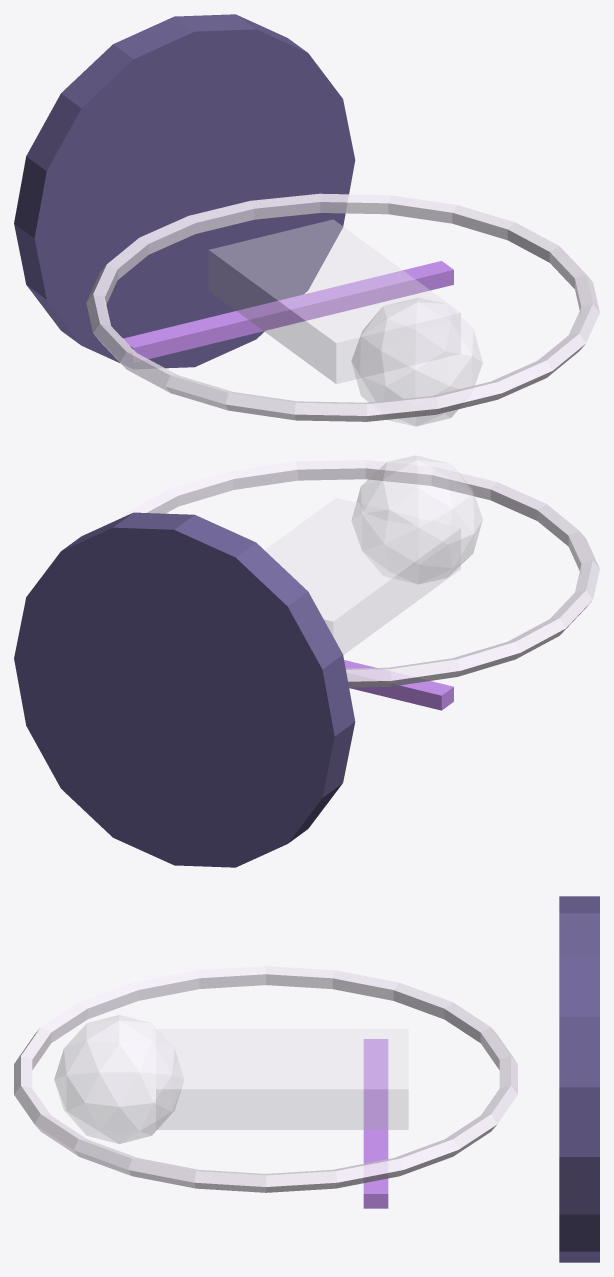
File: 07_support_npc_aura.glb
The picture shows the model from 3 angles, top to bottom: view 1: azimuth 30°, elevation 25°; view 2: azimuth 150°, elevation 25°; view 3: azimuth 270°, elevation 25°; orthographic projection.
Visible parts, largest first — view 1: npc_support_base, support_holo_body, ally_command_ring, support_holo_head, assist_beam_marker; view 2: npc_support_base, support_holo_body, ally_command_ring, support_holo_head, assist_beam_marker; view 3: support_holo_body, ally_command_ring, npc_support_base, support_holo_head, assist_beam_marker.
Boxes of the visible parts, bbox=[...] form: npc_support_base: bbox=[14, 14, 355, 368]; support_holo_body: bbox=[209, 219, 460, 383]; ally_command_ring: bbox=[86, 193, 599, 421]; support_holo_head: bbox=[351, 297, 482, 426]; assist_beam_marker: bbox=[121, 261, 453, 362]; npc_support_base: bbox=[14, 512, 355, 867]; support_holo_body: bbox=[265, 498, 460, 654]; ally_command_ring: bbox=[121, 460, 599, 687]; support_holo_head: bbox=[352, 455, 482, 583]; assist_beam_marker: bbox=[344, 660, 453, 710]; support_holo_body: bbox=[156, 1029, 408, 1129]; ally_command_ring: bbox=[14, 966, 517, 1192]; npc_support_base: bbox=[559, 896, 599, 1262]; support_holo_head: bbox=[54, 1015, 183, 1143]; assist_beam_marker: bbox=[363, 1039, 388, 1208].
Size of the model in its own units: 1.25 by 0.9 by 1.44.
